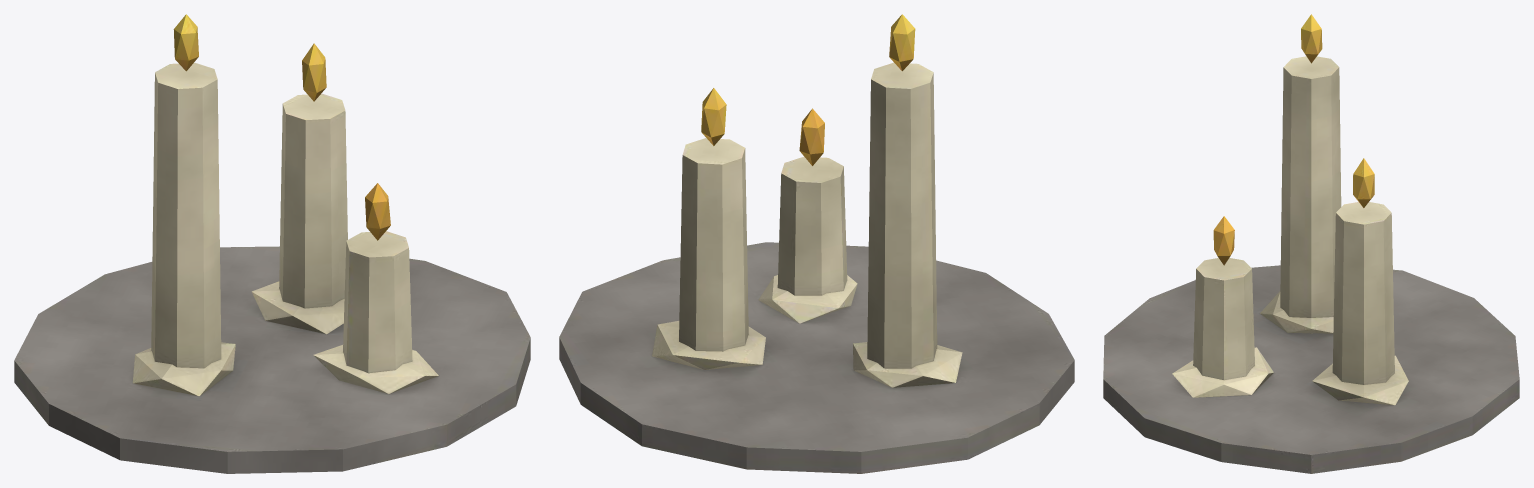
The model's file is candles_idle.glb.
3 renders of one model, left to right at view 1: azimuth 30°, elevation 25°; view 2: azimuth 150°, elevation 25°; view 3: azimuth 270°, elevation 25°, orthographic. The views are drawn at different scales.
Parts seen in each view (by area): view 1: candles; view 2: candles; view 3: candles.
Boxes of the visible parts, x1,y1,x2,y2 form: candles: (14,14,530,473); candles: (559,14,1074,473); candles: (1103,14,1519,473).
Bounding box in the file's own units: 0.2604 × 0.2056 × 0.2384.
1 material, 1 textured.
